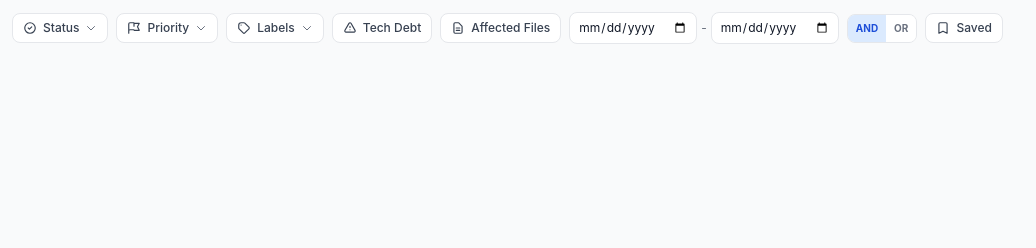
Test case: FilterBuilder › toggles a status inside the dropdown and shows a removable chip
The width and height of the screenshot is (1036, 248).
Click the button "Status".
click(60, 28)  # box [12, 13, 108, 43]
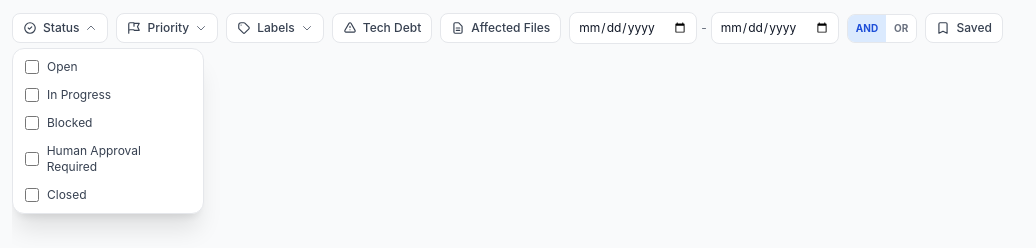
Click the checkbox labelled "Open".
click(32, 67)  # box [25, 60, 39, 74]
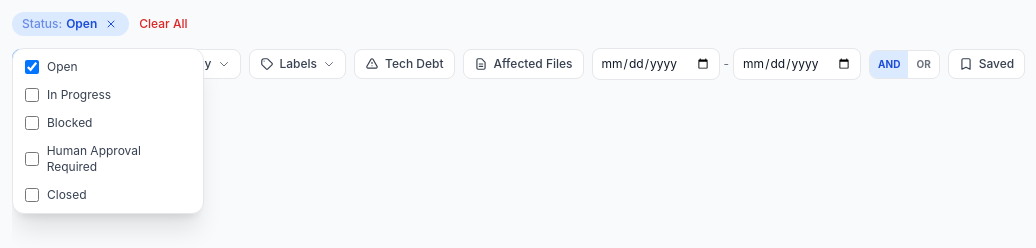
Check: the text "Open" is shown, box [66, 16, 97, 32]
Check: the button named "Remove Status filter" is shown
Click the button named "Remove Status filter".
click(111, 24)  # box [103, 16, 119, 32]
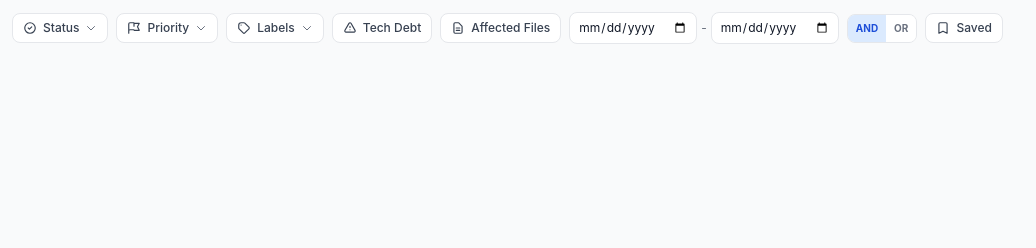
Check: the text "Open" is gone
